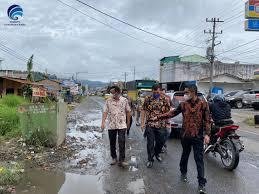Pothole: (0, 148, 175, 194), (64, 110, 108, 147)
